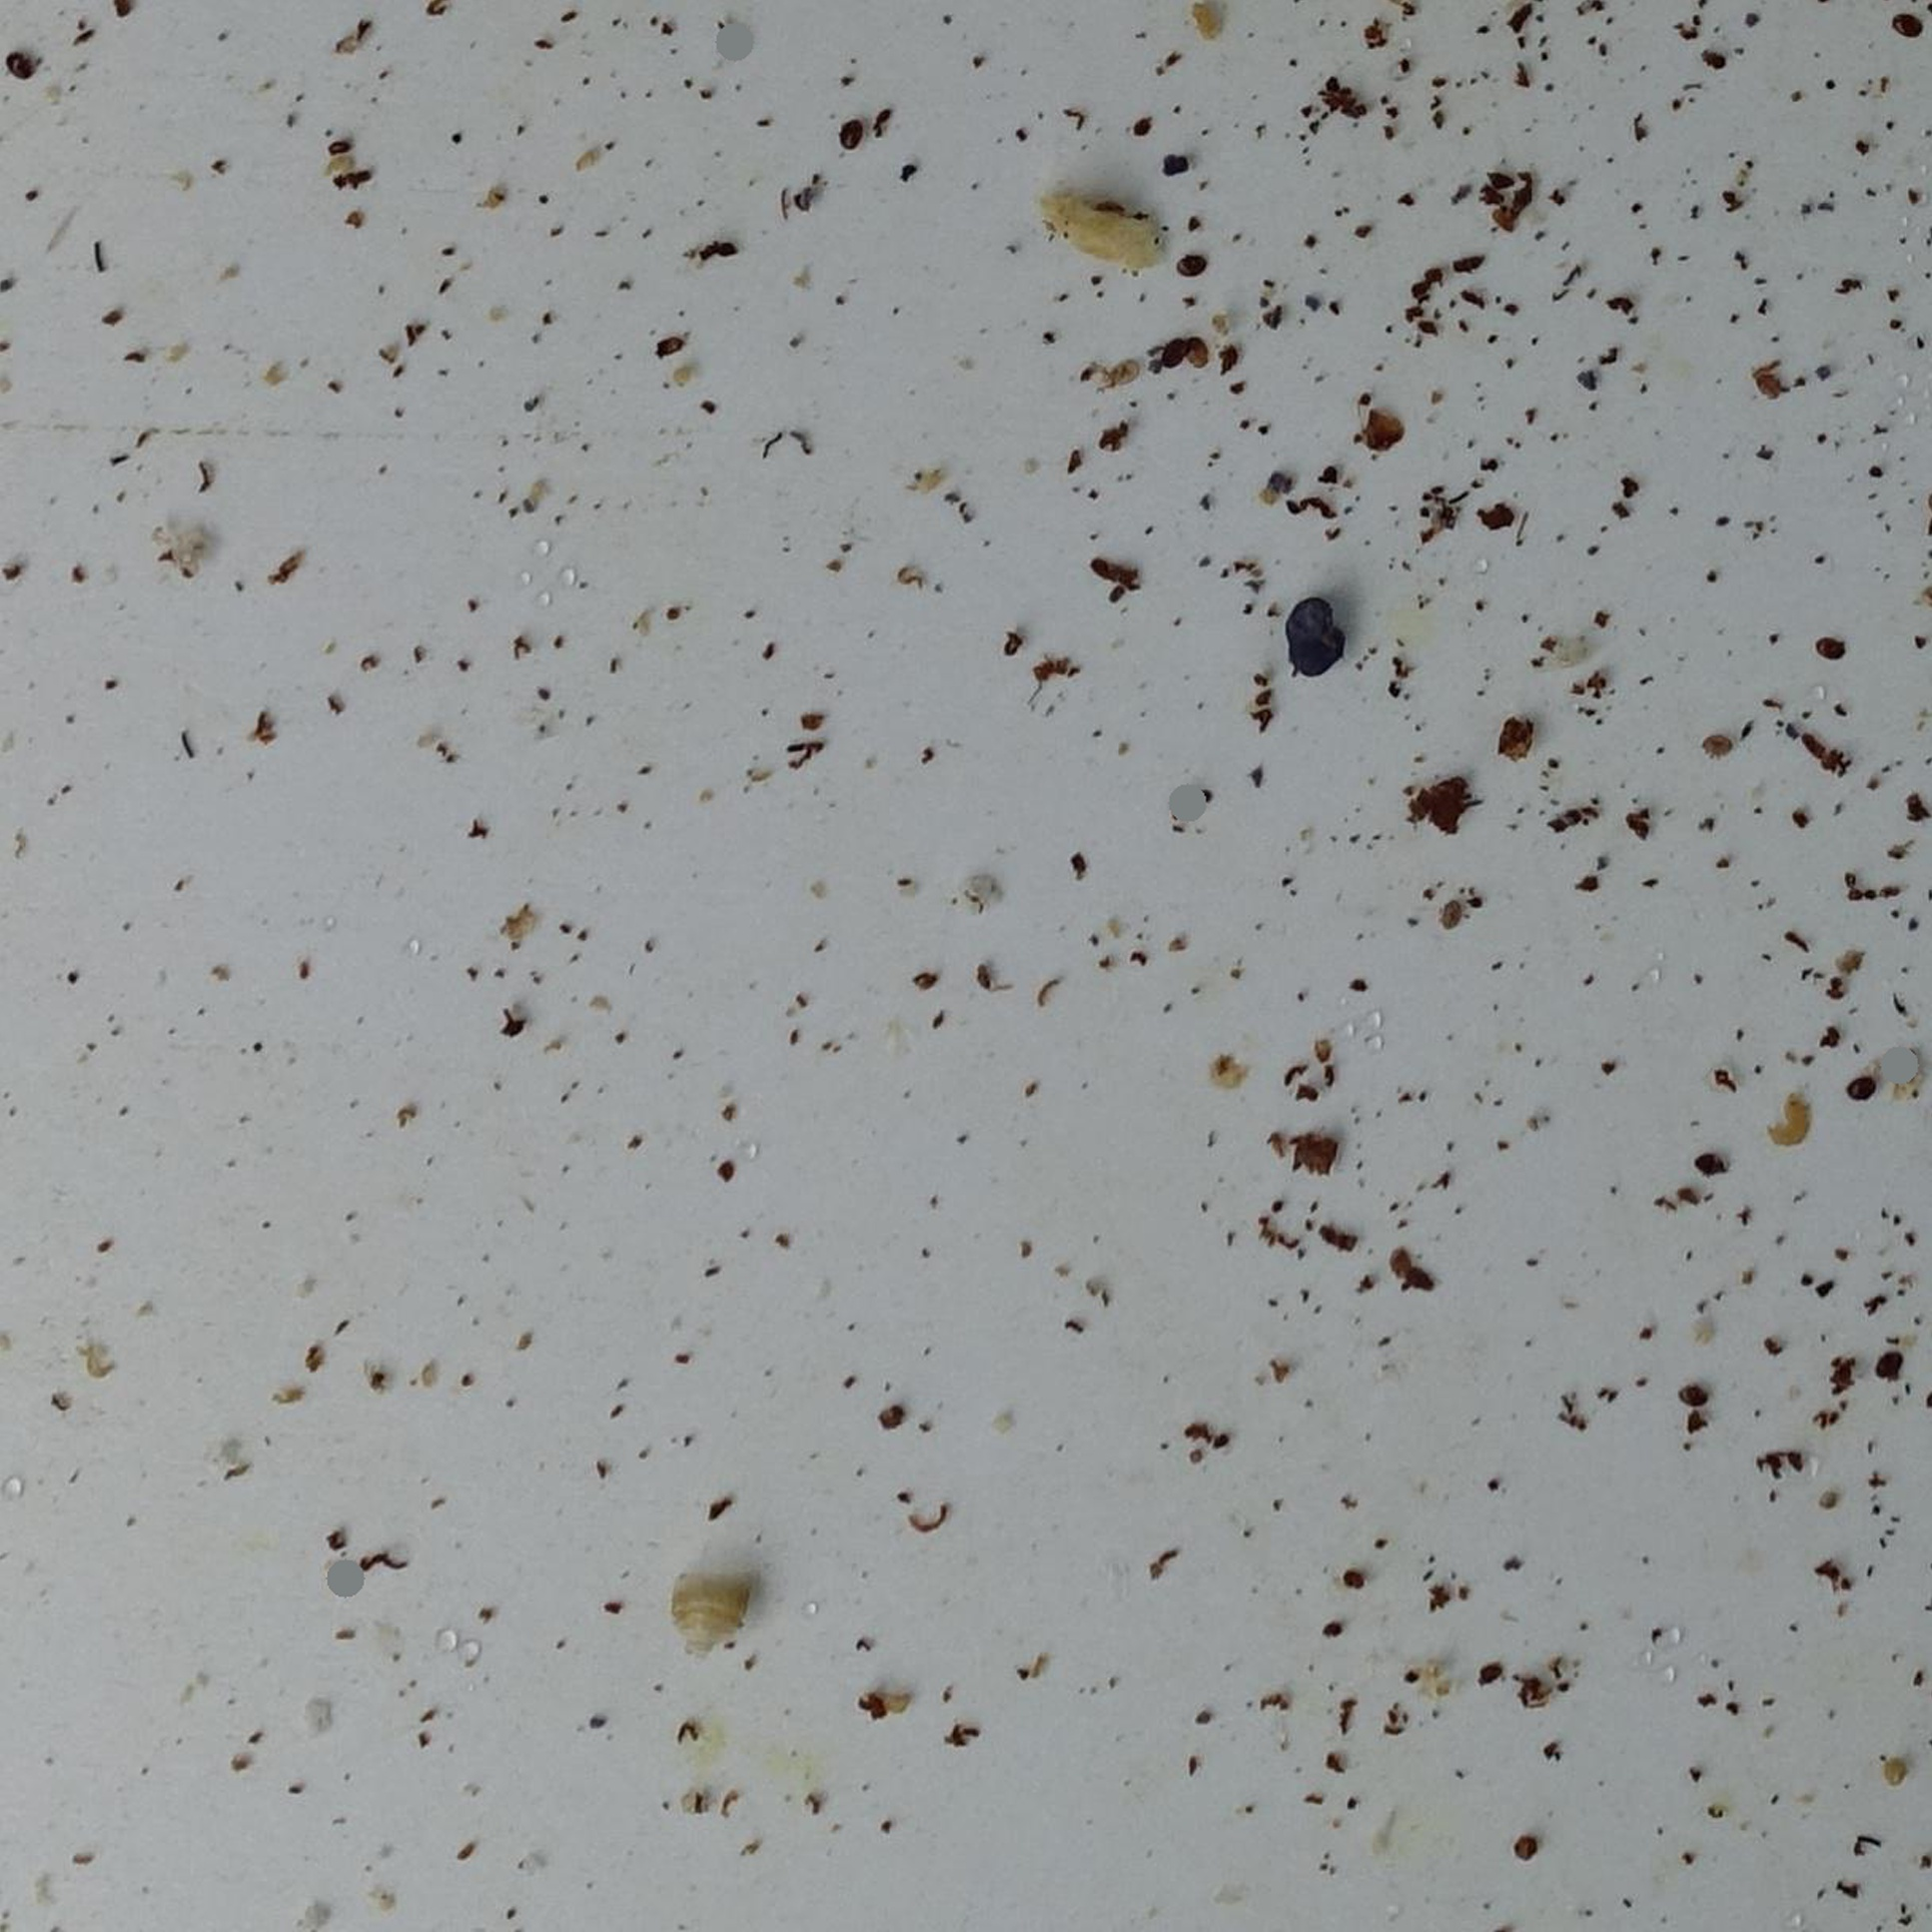Varroa: (1698, 731, 1730, 761), (1180, 336, 1212, 364), (1161, 341, 1187, 370), (1874, 1346, 1898, 1376), (1845, 1077, 1870, 1104), (1178, 253, 1201, 280), (1683, 1384, 1706, 1407), (1697, 1148, 1720, 1171), (11, 51, 32, 74), (1821, 639, 1836, 653), (846, 122, 860, 136), (1902, 11, 1913, 23), (1909, 23, 1920, 35)
